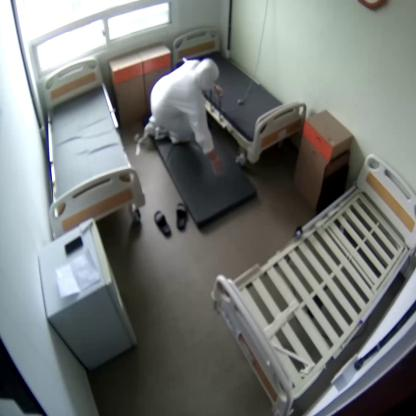Bed: (172, 27, 306, 160)
Person: (144, 60, 224, 173)
